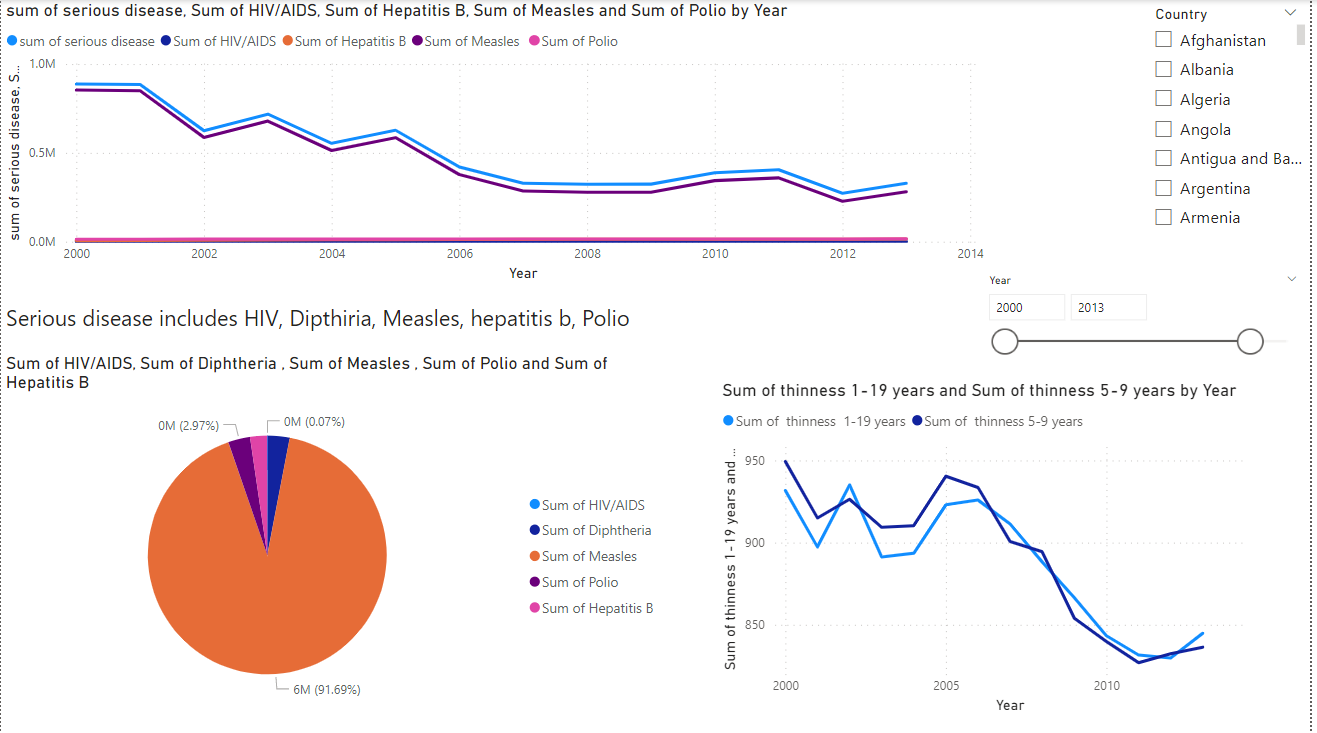

Layout of this report page (visuals, bound fields, positions):
{"tool":"powerbi","page":{"name":"Health_analysis","canvas":[1280,720],"ordinal":2},"visuals":[{"type":"lineChart","fields":{"Category":["in.Year"],"Y":["in.sum of serious disease","Sum(in. HIV/AIDS)","Sum(in.Hepatitis B)","Sum(in.Measles )","Sum(in.Polio)"]},"box":[0,0,965.7,279.9],"z":0},{"type":"textbox","box":[0,290.9,654,53.8],"z":1000},{"type":"slicer","fields":{"Values":["in.Country"]},"box":[1116.1,0,163.8,238.4],"z":2000},{"type":"pieChart","fields":{"Y":["Sum(in.HIV/AIDS)","Sum(in.Diphtheria )","Sum(in.Measles )","Sum(in.Polio)","Sum(in.Hepatitis B)"]},"box":[0,344.7,654,358.2],"z":3000},{"type":"slicer","fields":{"Values":["in.Year"]},"box":[953.5,262.8,326.4,108.8],"z":4000},{"type":"lineChart","fields":{"Y":["Sum(in. thinness  1-19 years)","Sum(in. thinness 5-9 years)"],"Category":["in.Year"]},"box":[700.4,371.6,524.4,331.3],"z":4001}]}

Visuals, with their boxes on the page's 1280x720 design canvas (x1, y1, x2, y2). These are canvas units, not pixel positions in the 1317x733 screenshot, which may show the page scaled, cropped or inside an application window:
lineChart - in.Year x in.sum of serious disease: [left=0, top=0, right=966, bottom=280]
textbox: [left=0, top=291, right=654, bottom=345]
slicer - in.Country: [left=1116, top=0, right=1280, bottom=238]
pieChart - Sum(in.HIV/AIDS) x Sum(in.Diphtheria ): [left=0, top=345, right=654, bottom=703]
slicer - in.Year: [left=954, top=263, right=1280, bottom=372]
lineChart - Sum(in. thinness  1-19 years) x Sum(in. thinness 5-9 years): [left=700, top=372, right=1225, bottom=703]
